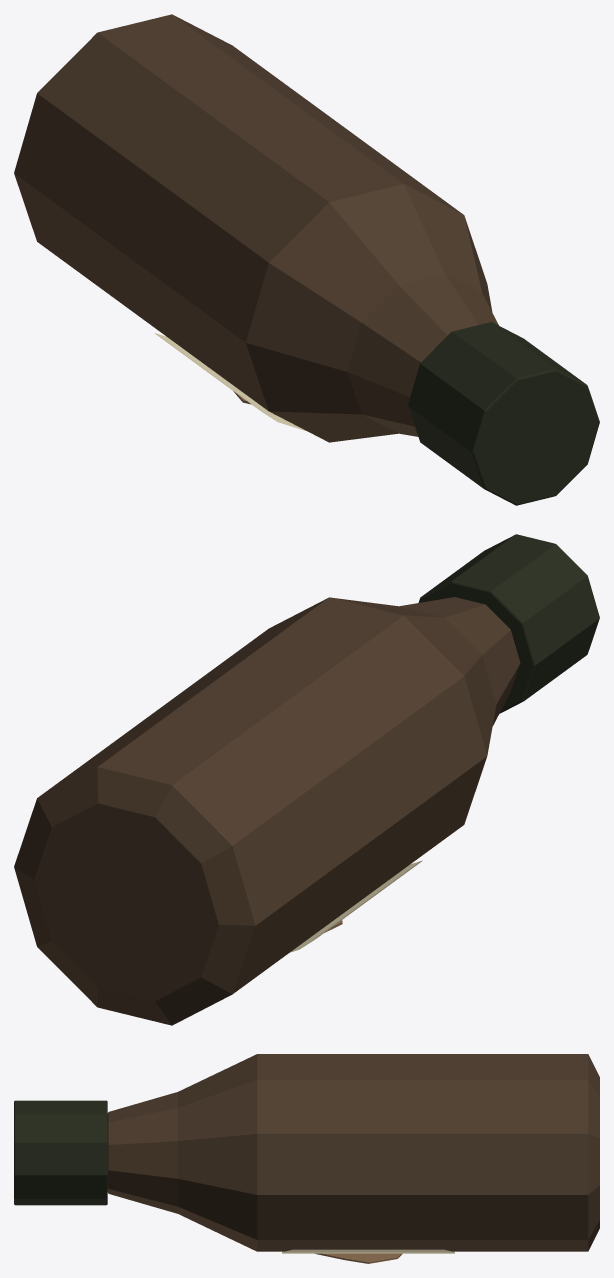
The model's file is bbq_sauce.glb.
3 renders of one model, top to bottom at view 1: azimuth 30°, elevation 25°; view 2: azimuth 150°, elevation 25°; view 3: azimuth 270°, elevation 25°, orthographic. The views are drawn at different scales.
Visible parts, largest first — view 1: bbq_sauce; view 2: bbq_sauce; view 3: bbq_sauce.
Part boxes in pixels (<box>): bbq_sauce: <box>14,14,599,505</box>; bbq_sauce: <box>14,534,599,1025</box>; bbq_sauce: <box>14,1054,599,1263</box>.
Size of the model in its own units: 0.068 by 0.0677 by 0.2.
